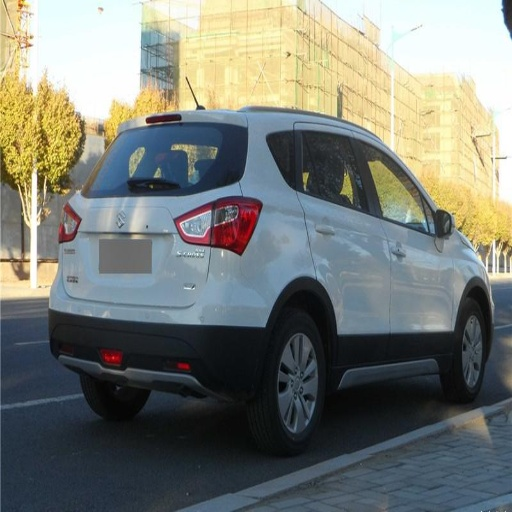back_bumper: (49, 246, 280, 400)
back_right_door: (299, 120, 389, 368)
trunk: (60, 198, 214, 306)
